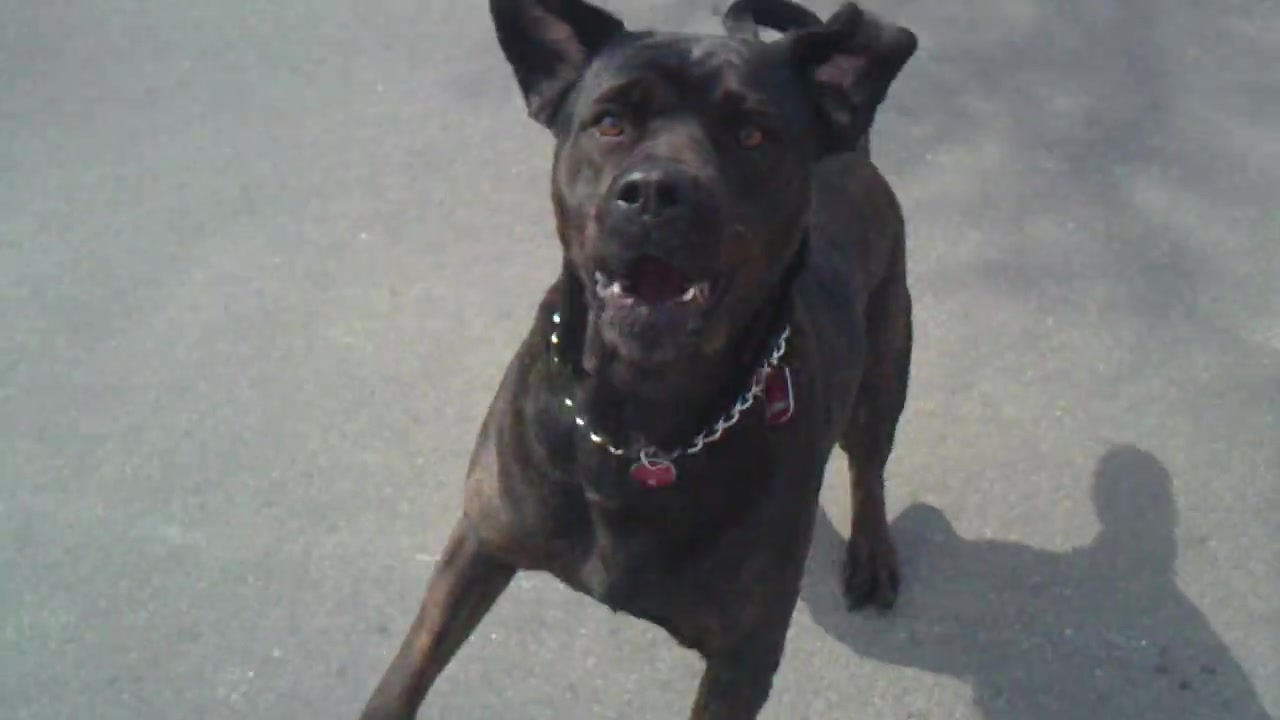dog: (358, 1, 917, 720)
